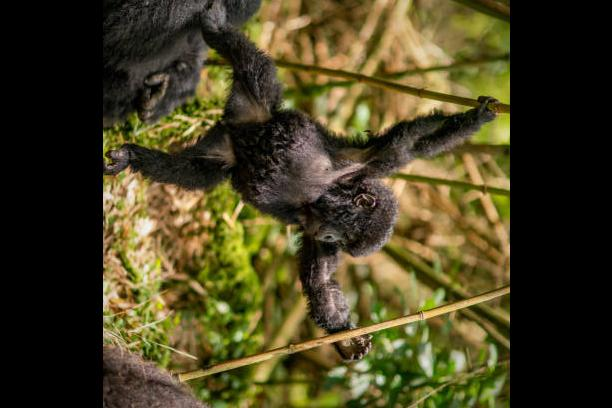goriile_montagne: (156, 15, 509, 360), (109, 0, 356, 126)
